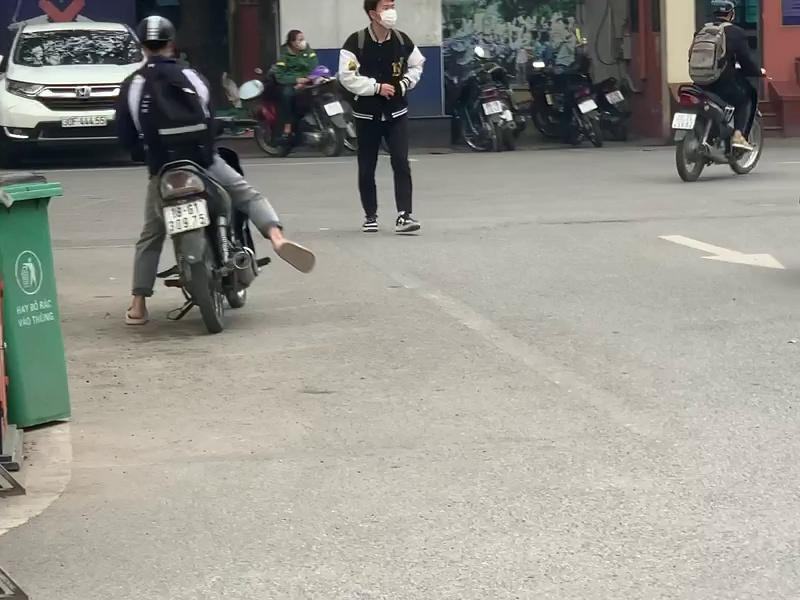helmet: (136, 12, 174, 42), (708, 0, 736, 15)
license_plate: (161, 197, 210, 234), (672, 109, 700, 130), (482, 99, 503, 116), (324, 100, 344, 116), (579, 98, 599, 114), (607, 89, 624, 106)
motorcyclist: (116, 13, 314, 335), (671, 0, 771, 182)
